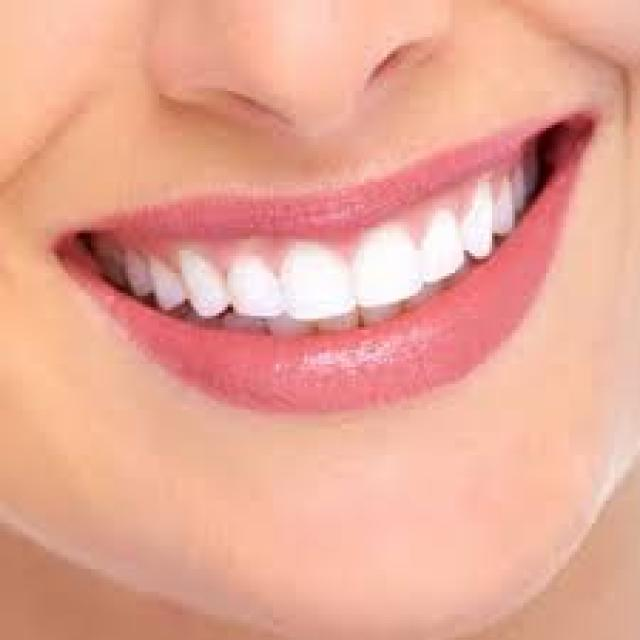tooth: (284, 250, 353, 319), (355, 233, 424, 299), (233, 256, 279, 319), (429, 219, 464, 276), (193, 259, 225, 316), (467, 190, 492, 259), (495, 179, 515, 233), (159, 267, 182, 313), (102, 244, 126, 284), (131, 250, 148, 299), (518, 159, 534, 199)
